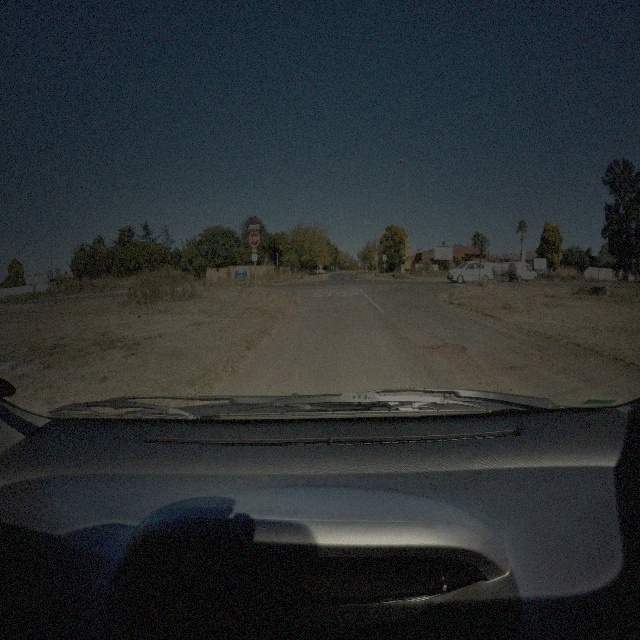pothole: (423, 337, 468, 359)
